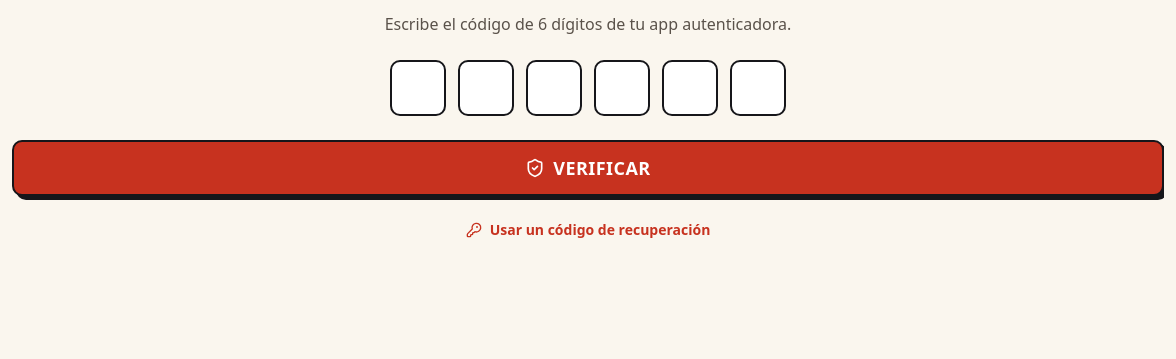
TwoFactorForm › ofrece volver a iniciar sesion si el reto vencio
The image size is (1176, 359).
Click the field named "Dígito 1 de 6".
click(418, 88)  # box [390,60,446,116]
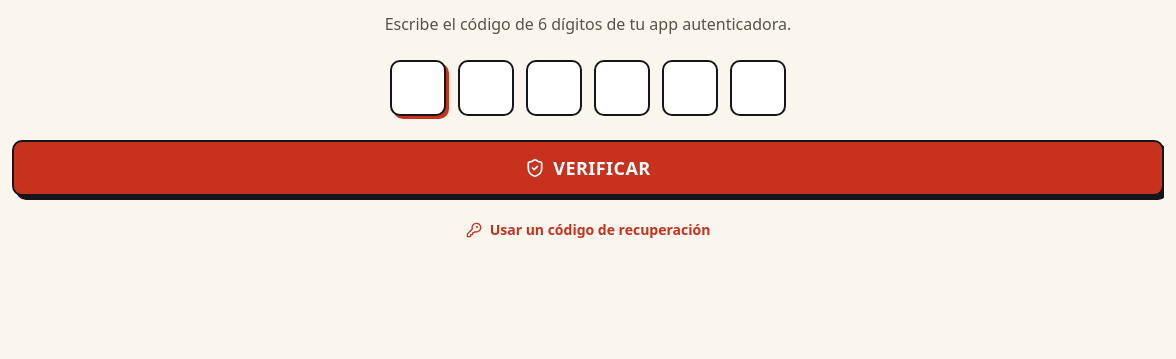
Type keys "123456"
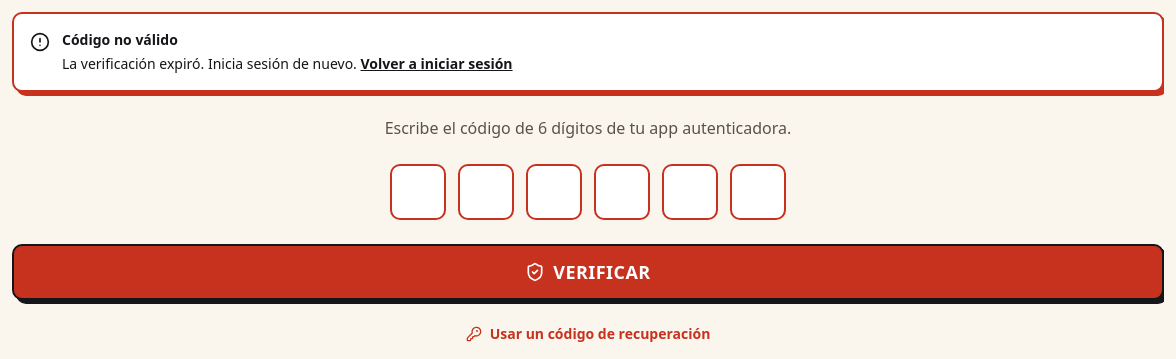
expect the text "La verificación expiró. Inicia sesión de nuevo." is shown: met, box [62,54,357,73]
